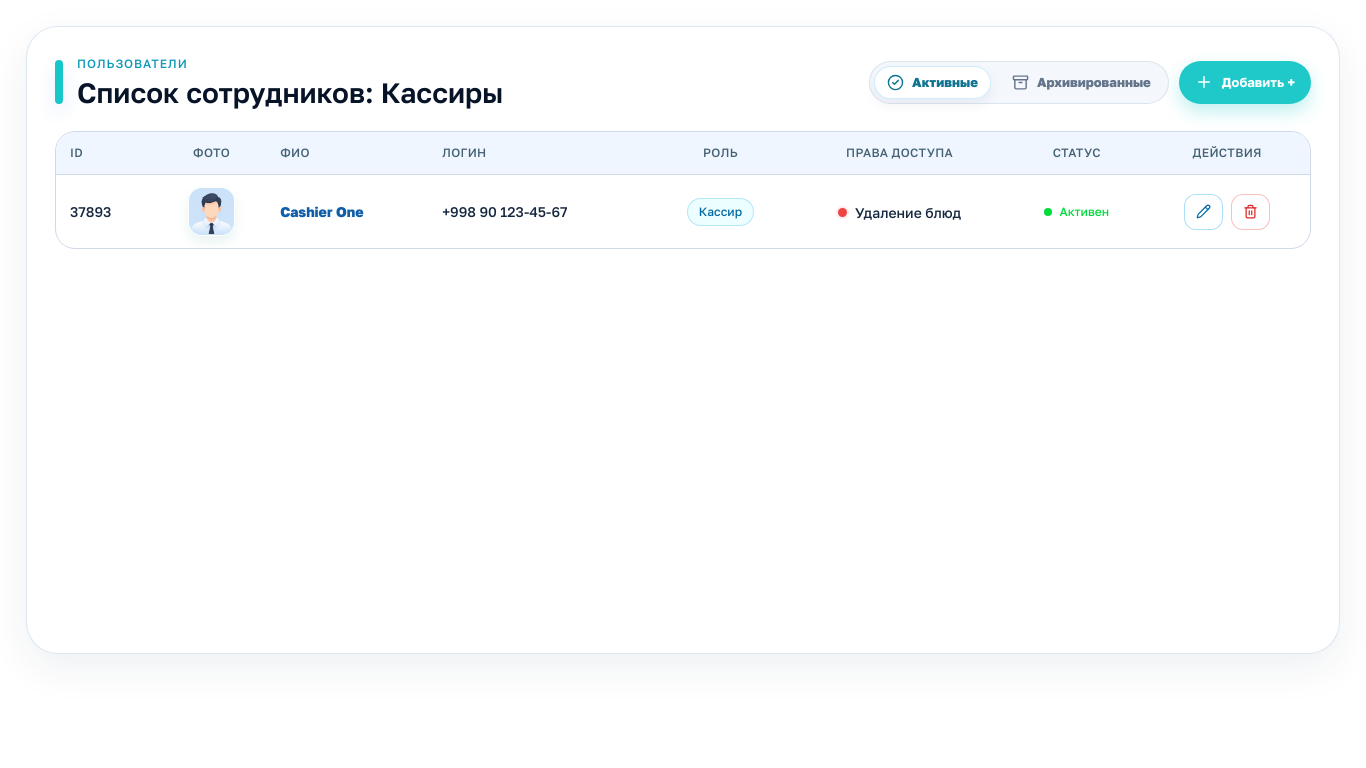
cashier page visual contract (/users/cashier) › creates a cashier without Email through the real endpoint
Expected: the text "Cashier One" is shown, [266,174,428,248]
Click the button "Добавить +" at (1245, 82), box [1179,61,1311,104]
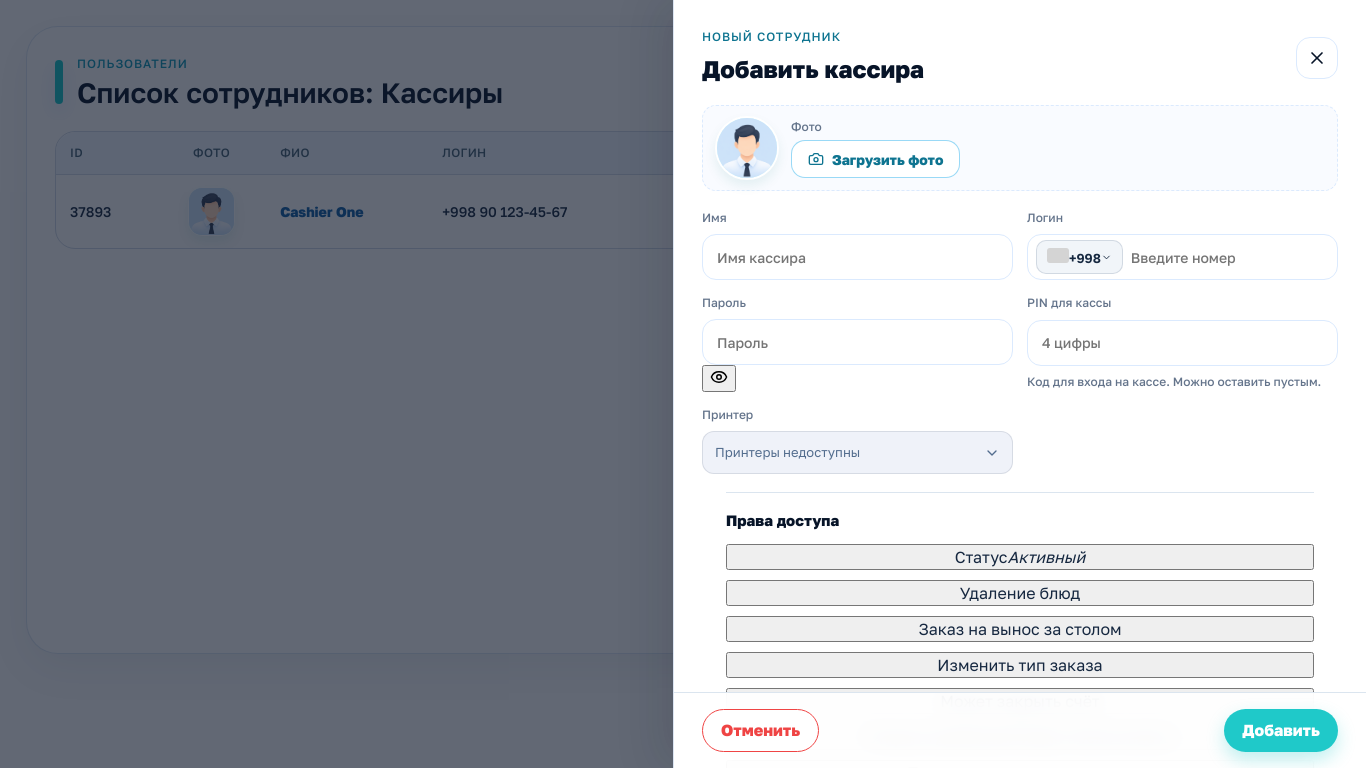
Type "Cashier Two" into the field with placeholder "Имя кассира" at (858, 257), box [702,234,1013,280]
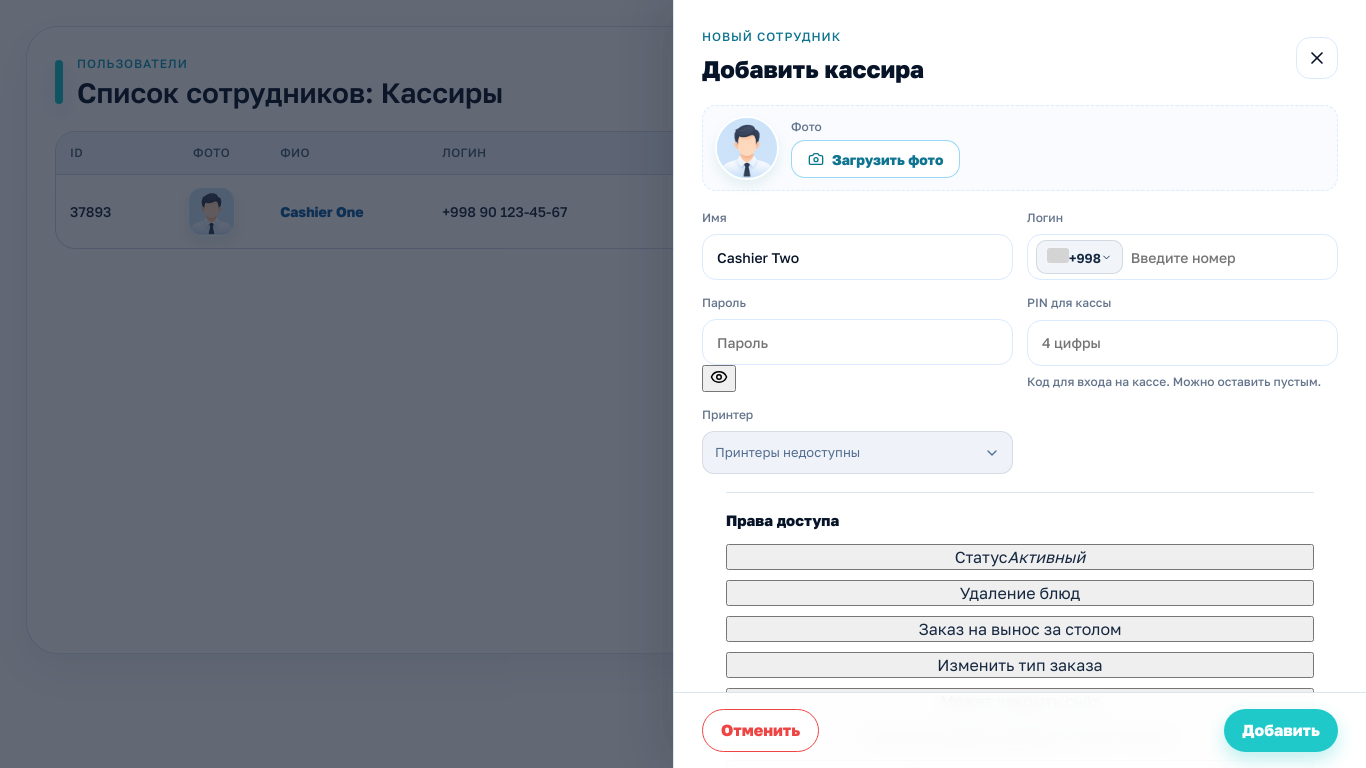
Type "+998901112233" into the field with placeholder "Введите номер" at (1227, 257), box [1131,235,1323,279]
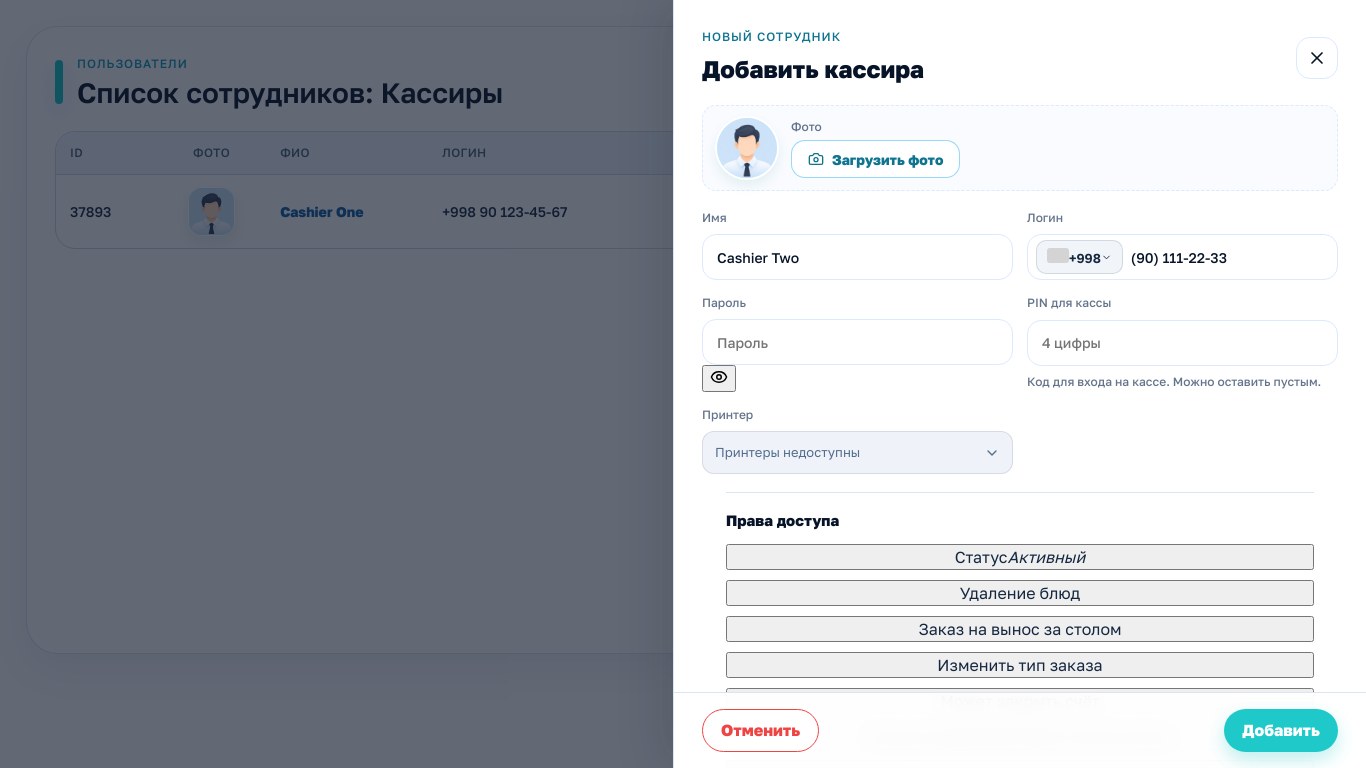
Type "Cashier123" into the password field with placeholder "Пароль" at (858, 342), box [702,319,1013,365]
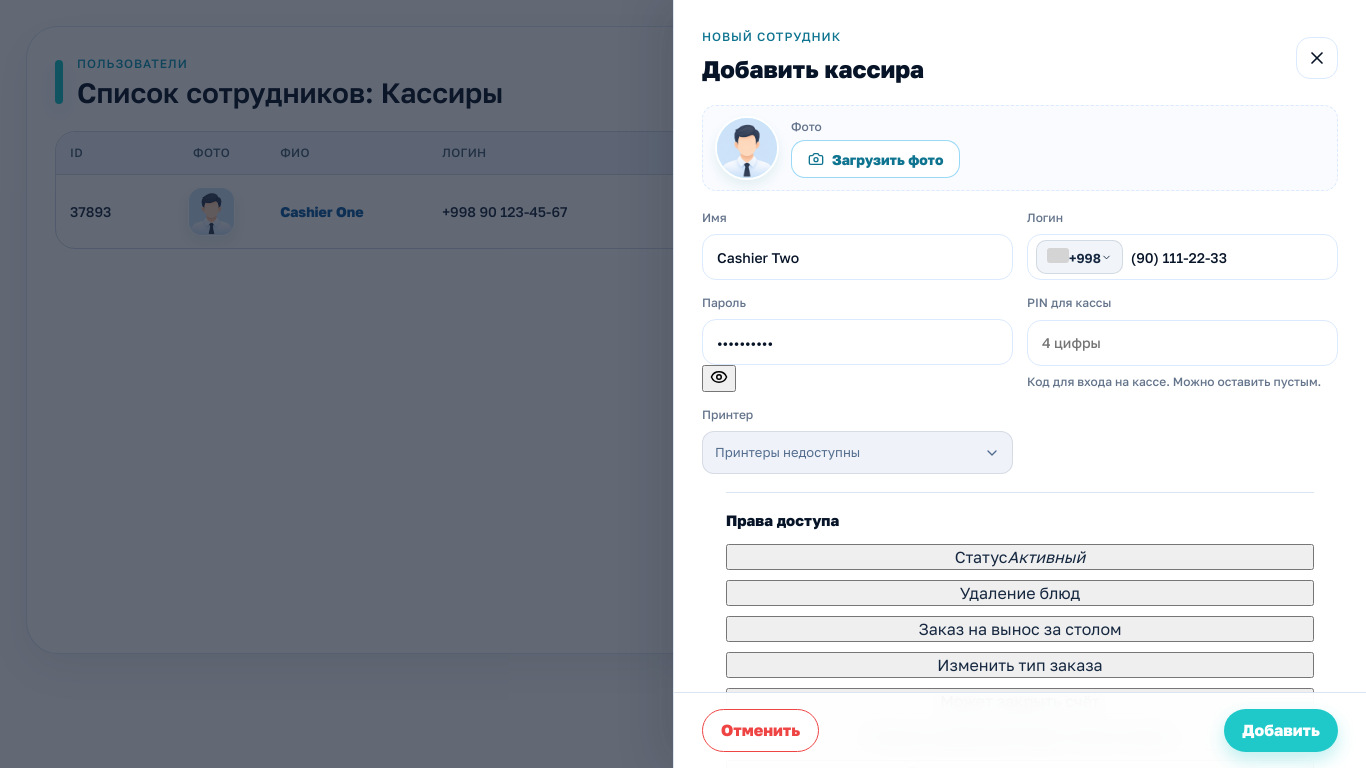
Click the button "Добавить" at (1281, 730), box [1224,709,1338,752]
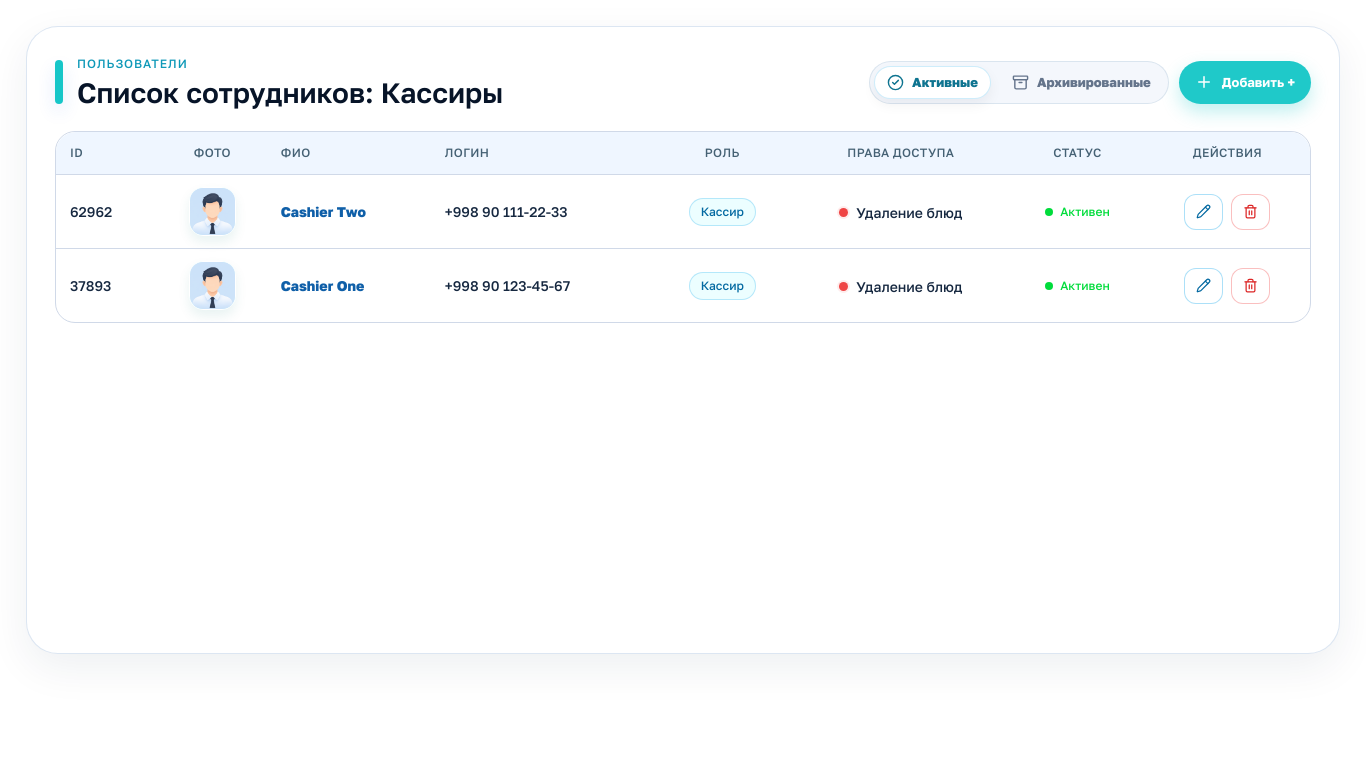
Now the text "Cashier Two" is shown, box [267,174,431,248]
Now the dialog is gone
